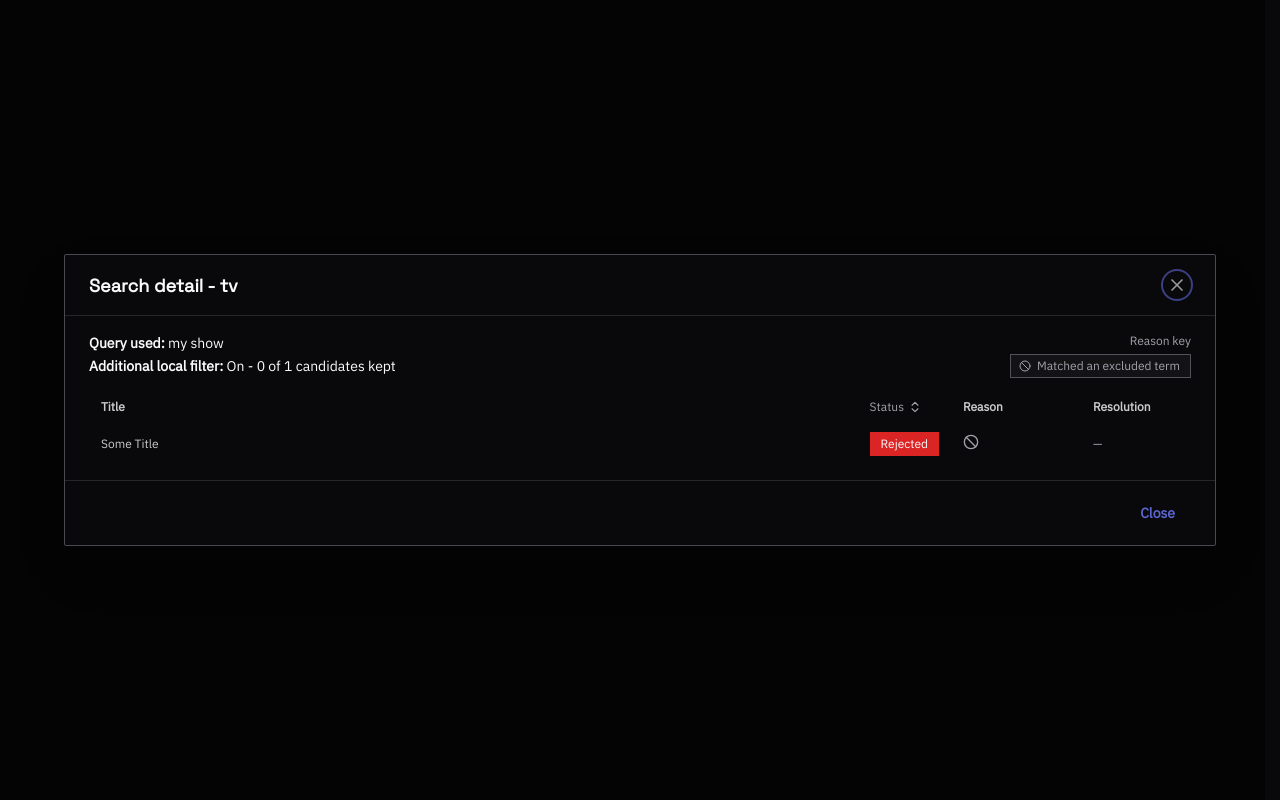
Test: NzbSearchTraceDialog › reason tooltips › spells out the excluded-term reason
This screenshot has width=1280, height=800.
Hover over the text "—" at (1098, 444), box [1093,436,1102,451]
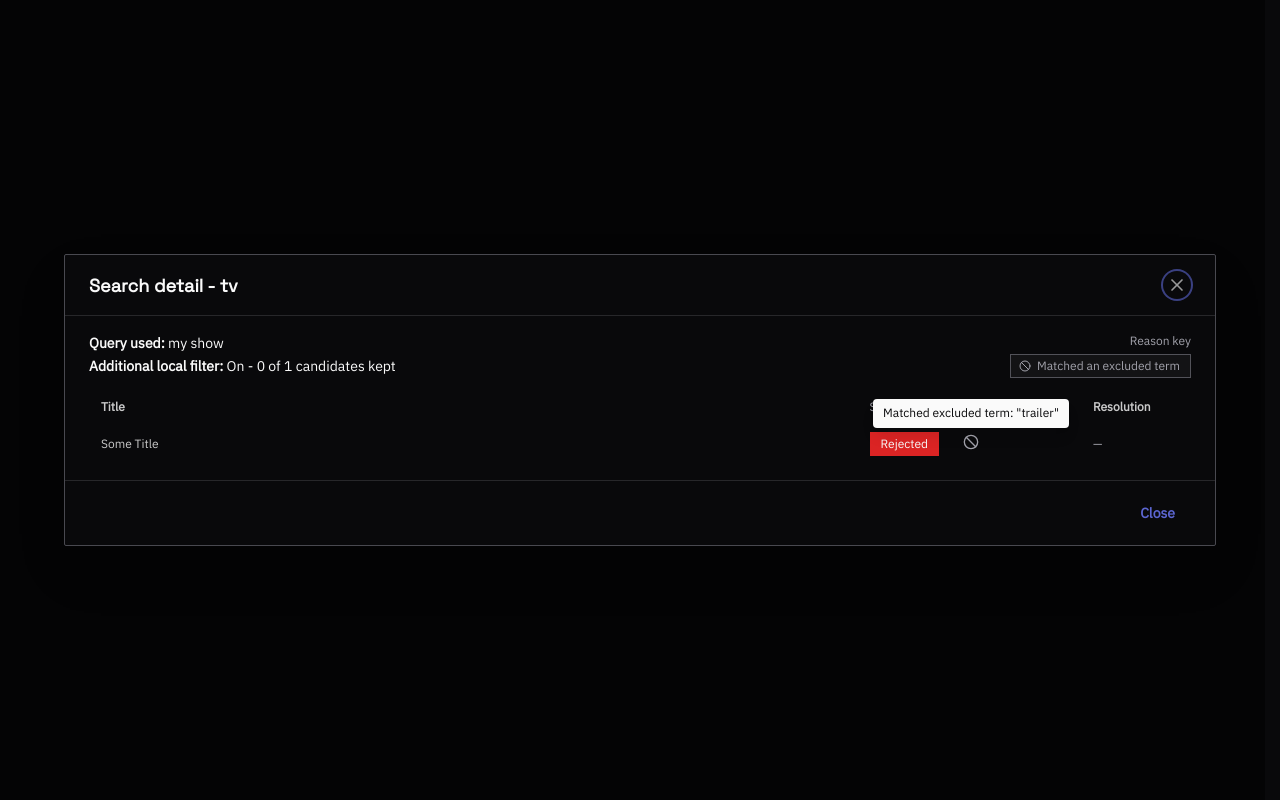
Now the tooltip "Matched excluded term: \"trailer\"" is shown, box [873,399,1069,428]
